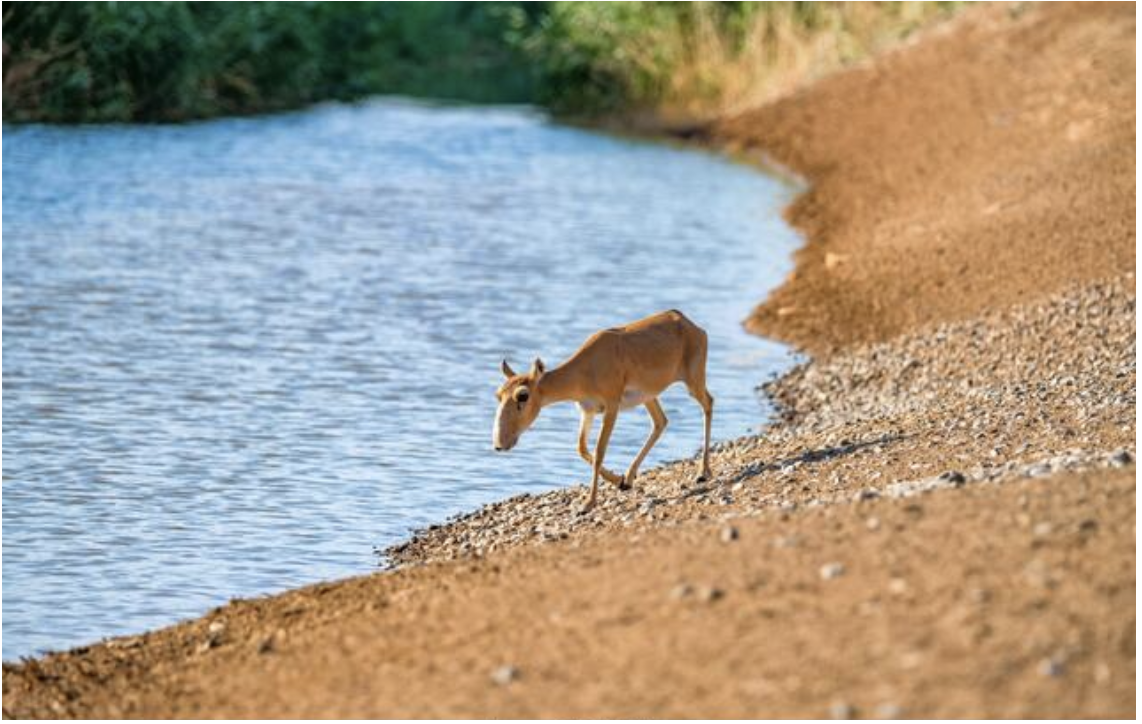saiga: (465, 312, 770, 497)
